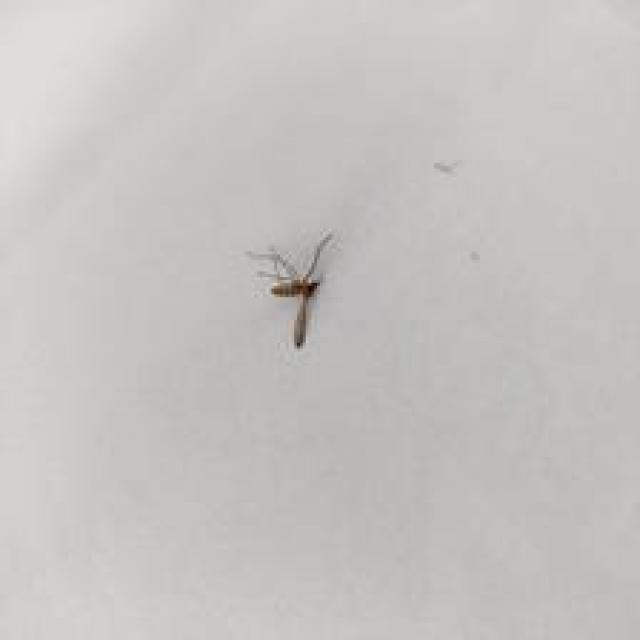Culex: (244, 228, 336, 348)
